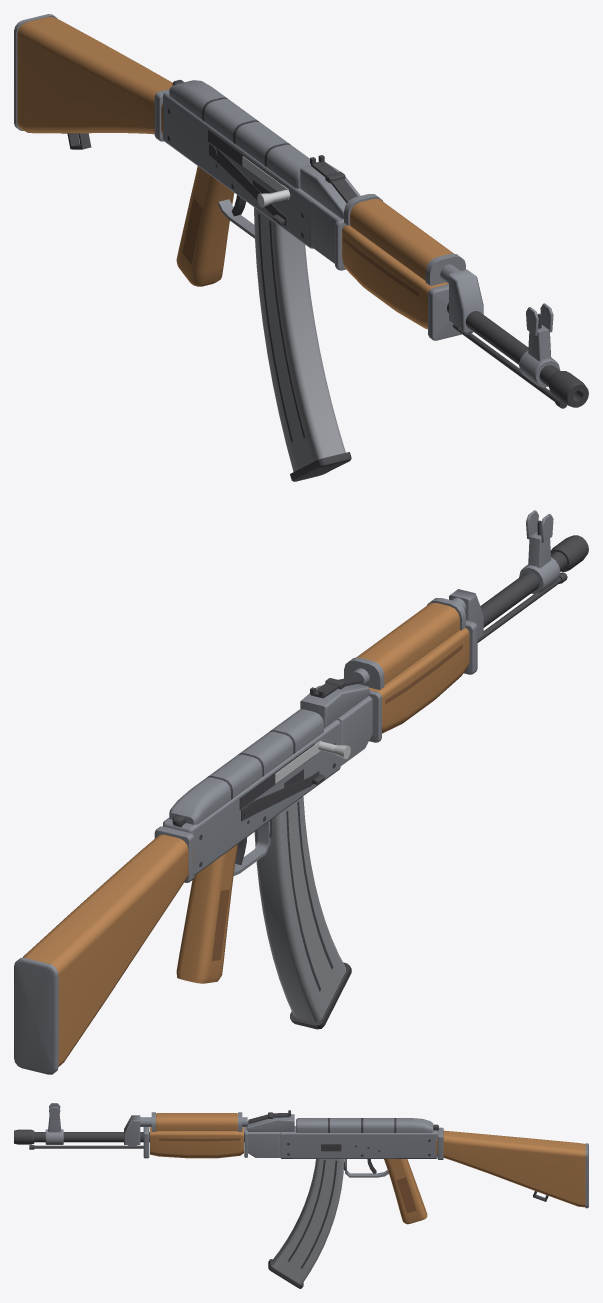
3 renders of one model, top to bottom at view 1: azimuth 30°, elevation 25°; view 2: azimuth 150°, elevation 25°; view 3: azimuth 270°, elevation 25°, orthographic. The views are drawn at different scales.
Parts seen in each view (by area): view 1: Body, Magazine, Bolt; view 2: Body, Magazine, Bolt; view 3: Body, Magazine.
Part boxes in pixels (x1,y1,x2,y2): Body: (14, 14, 588, 408); Magazine: (254, 207, 351, 481); Bolt: (242, 156, 290, 207); Body: (14, 510, 588, 1074); Magazine: (254, 796, 351, 1029); Bolt: (275, 740, 350, 783); Body: (14, 1103, 588, 1224); Magazine: (268, 1159, 344, 1288).
Size of the model in its own units: 0.0927 by 0.4547 by 1.31.
